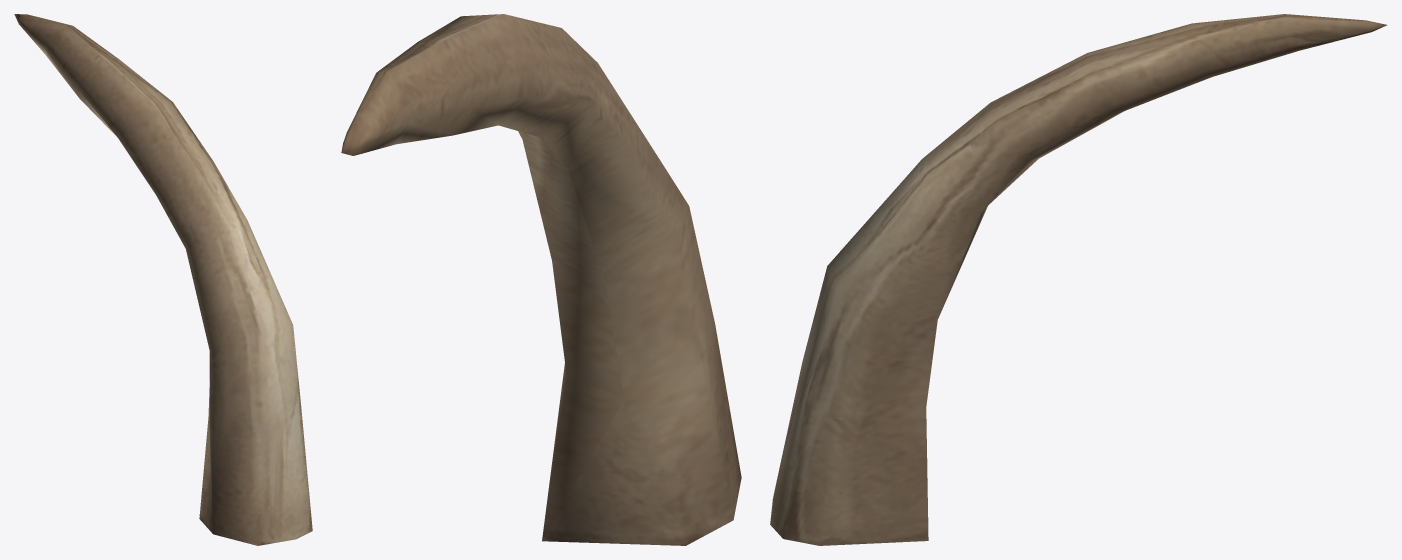
File: Item_5007_gutou_suigu01.FBX
3 views of the same model, side by side, from view 1: azimuth 30°, elevation 25°; view 2: azimuth 150°, elevation 25°; view 3: azimuth 270°, elevation 25° (orthographic). The views are drawn at different scales.
Visible parts, largest first — view 1: Item_5007_gutou_suigu01; view 2: Item_5007_gutou_suigu01; view 3: Item_5007_gutou_suigu01.
Part boxes in pixels (bbox=[...]): Item_5007_gutou_suigu01: bbox=[14, 14, 312, 545]; Item_5007_gutou_suigu01: bbox=[341, 14, 741, 545]; Item_5007_gutou_suigu01: bbox=[770, 14, 1387, 545].
Bounding box in the file's own units: 31.7 × 131 × 148.
